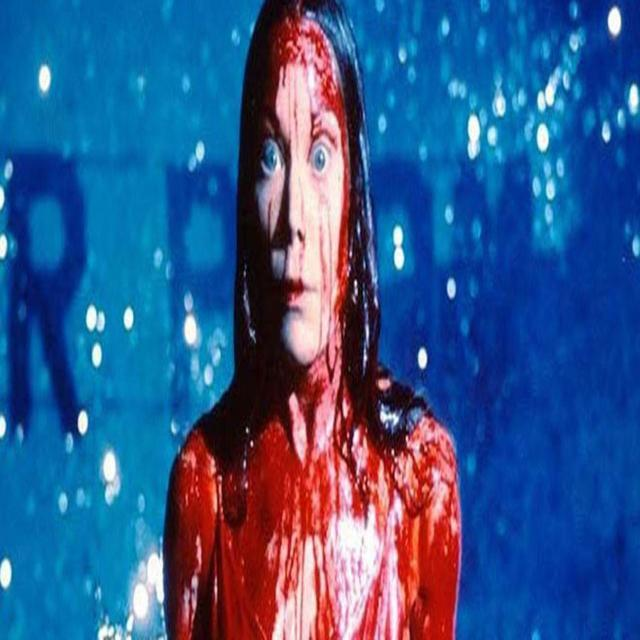flood: (194, 417, 278, 640), (383, 449, 458, 570), (325, 350, 370, 528), (269, 21, 329, 90), (340, 106, 350, 419)
